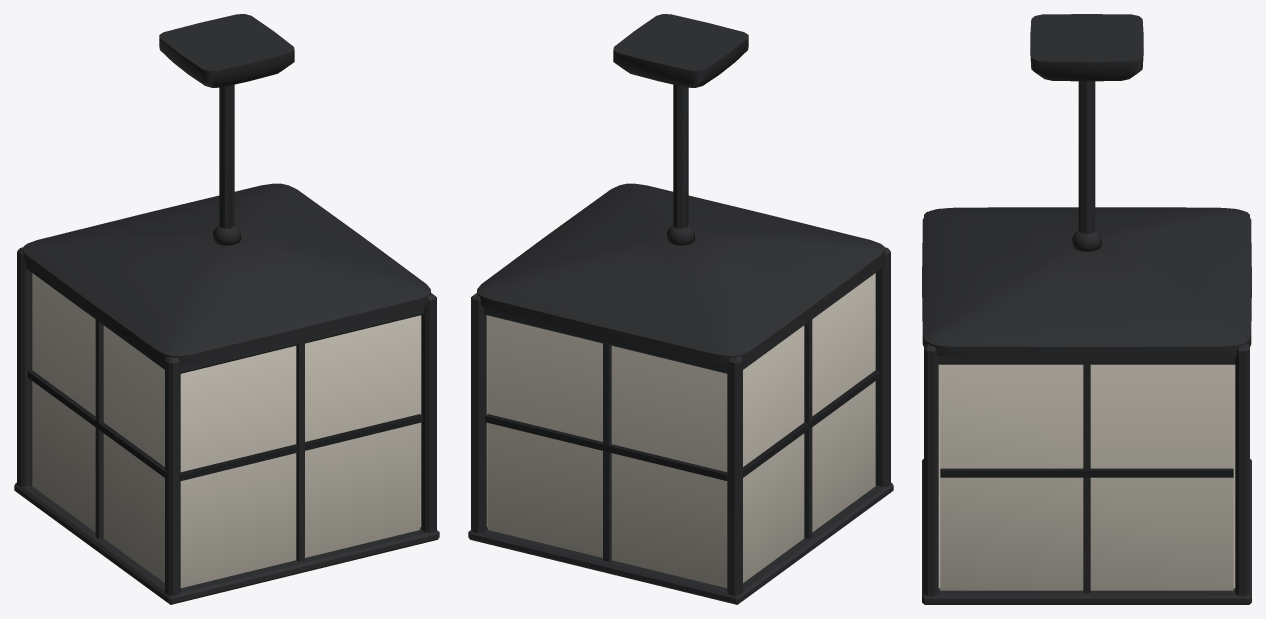
File: ceilingLight.glb
3 views of the same model, side by side, from view 1: azimuth 30°, elevation 25°; view 2: azimuth 150°, elevation 25°; view 3: azimuth 270°, elevation 25° (orthographic). The views are drawn at different scales.
Parts seen in each view (by area): view 1: ceilingLight; view 2: ceilingLight; view 3: ceilingLight.
Part boxes in pixels (x1=…): ceilingLight: x1=14, y1=14, x2=439, y2=604; ceilingLight: x1=468, y1=14, x2=893, y2=604; ceilingLight: x1=922, y1=14, x2=1251, y2=604.
Bounding box in the file's own units: 0.36 × 0.6 × 0.36.
